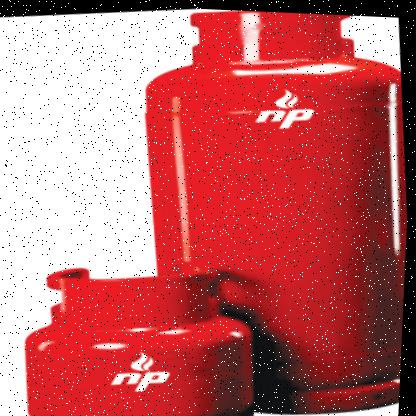gas-tank: (93, 3, 415, 416), (6, 236, 288, 415)
